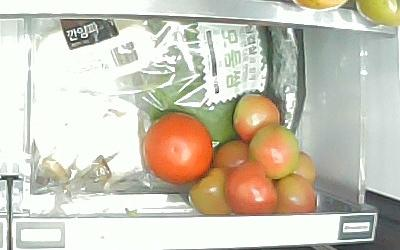tomato: (144, 112, 213, 183), (225, 163, 280, 215), (250, 125, 301, 178), (233, 94, 282, 140), (189, 169, 233, 216), (274, 174, 318, 216), (214, 139, 252, 171), (292, 153, 318, 186)
